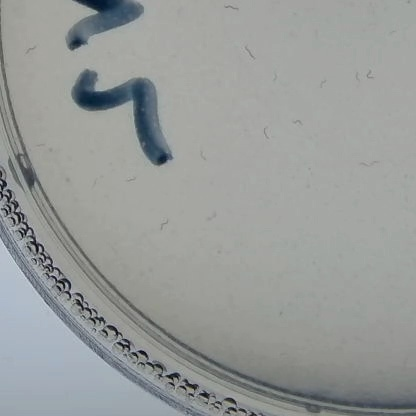worm: (30, 140, 58, 159), (351, 155, 384, 171), (240, 43, 262, 62), (313, 78, 335, 95), (268, 71, 287, 89), (224, 4, 246, 19), (259, 122, 273, 143), (24, 44, 43, 59), (194, 146, 211, 162), (362, 68, 378, 84), (199, 211, 222, 222), (351, 65, 362, 87), (123, 176, 143, 188), (293, 115, 306, 132), (158, 218, 173, 232), (88, 179, 104, 192)
